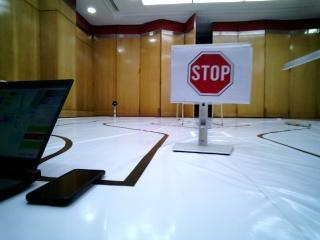stop: (172, 46, 250, 102)
